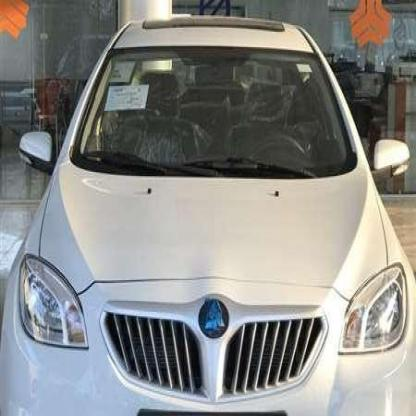Car: (0, 21, 416, 416)
